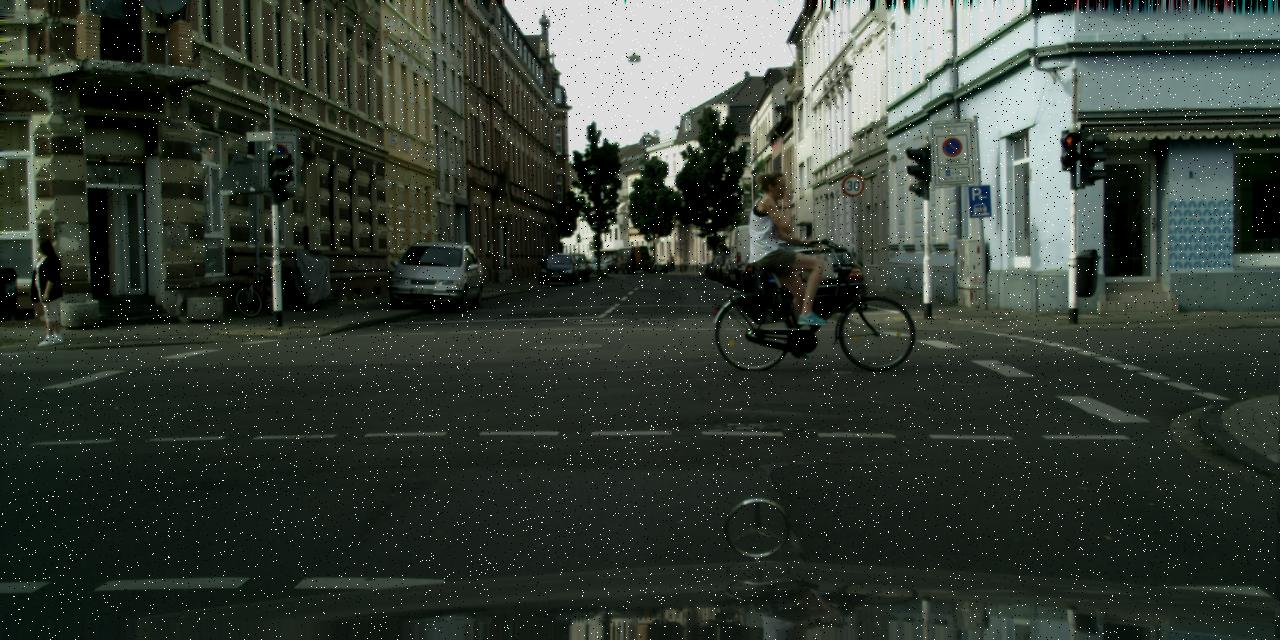ped: (754, 170, 822, 336), (26, 238, 68, 342), (667, 251, 675, 272)
